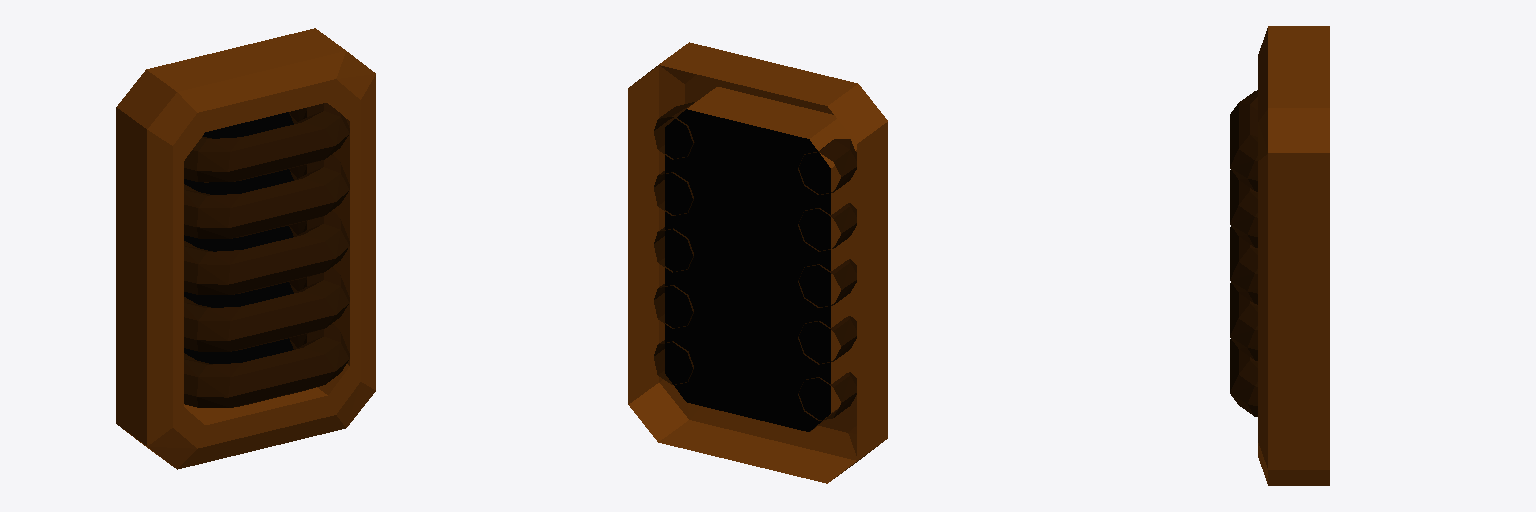
Rendered from Details_Vent_4.obj.
The picture shows the model from 3 angles: view 1: azimuth 30°, elevation 25°; view 2: azimuth 150°, elevation 25°; view 3: azimuth 270°, elevation 25°; orthographic projection.
Parts seen in each view (by area): view 1: Details_Vent_4_Cube.065; view 2: Details_Vent_4_Cube.065; view 3: Details_Vent_4_Cube.065.
Boxes of the visible parts, <box> form: Details_Vent_4_Cube.065: <box>116,28,375,469</box>; Details_Vent_4_Cube.065: <box>628,42,887,483</box>; Details_Vent_4_Cube.065: <box>1230,26,1329,485</box>.
Size of the model in its own units: 0.2383 by 0.3753 by 0.0905.